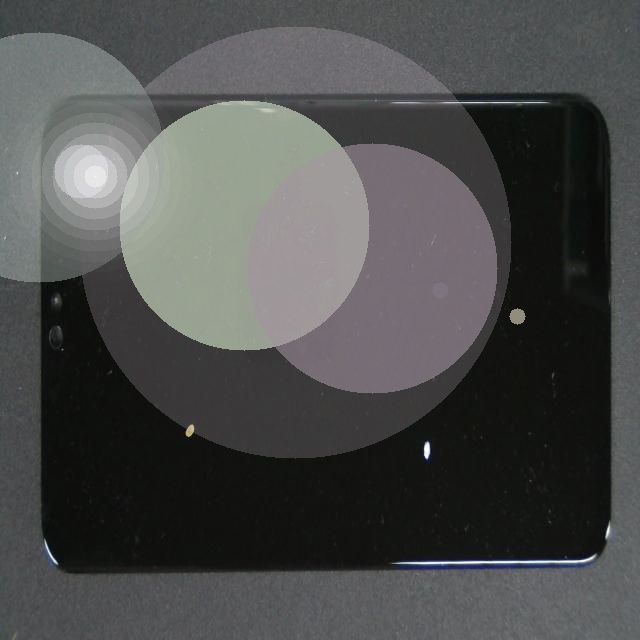stain: (221, 260, 640, 640), (123, 216, 299, 605)
